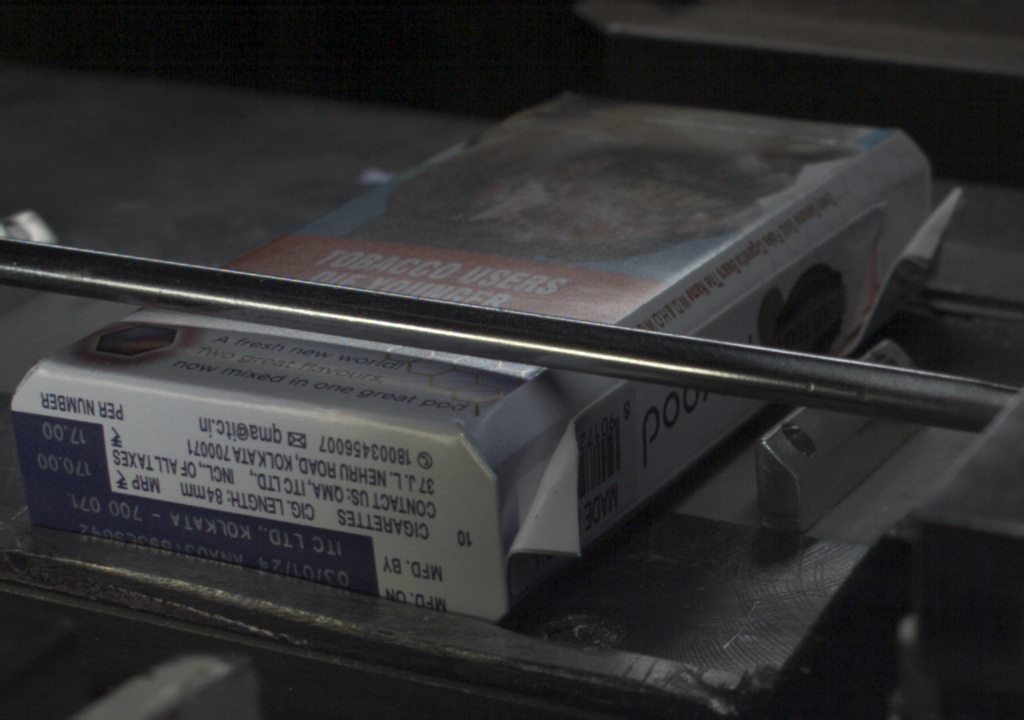g_bottom: (8, 378, 493, 627)
g_label: (17, 487, 380, 597)
g_lmiter: (691, 257, 793, 331), (793, 198, 889, 254)
ng_lmiter: (504, 414, 581, 563)
ng_miter: (896, 170, 967, 290)
price: (17, 419, 110, 486)
